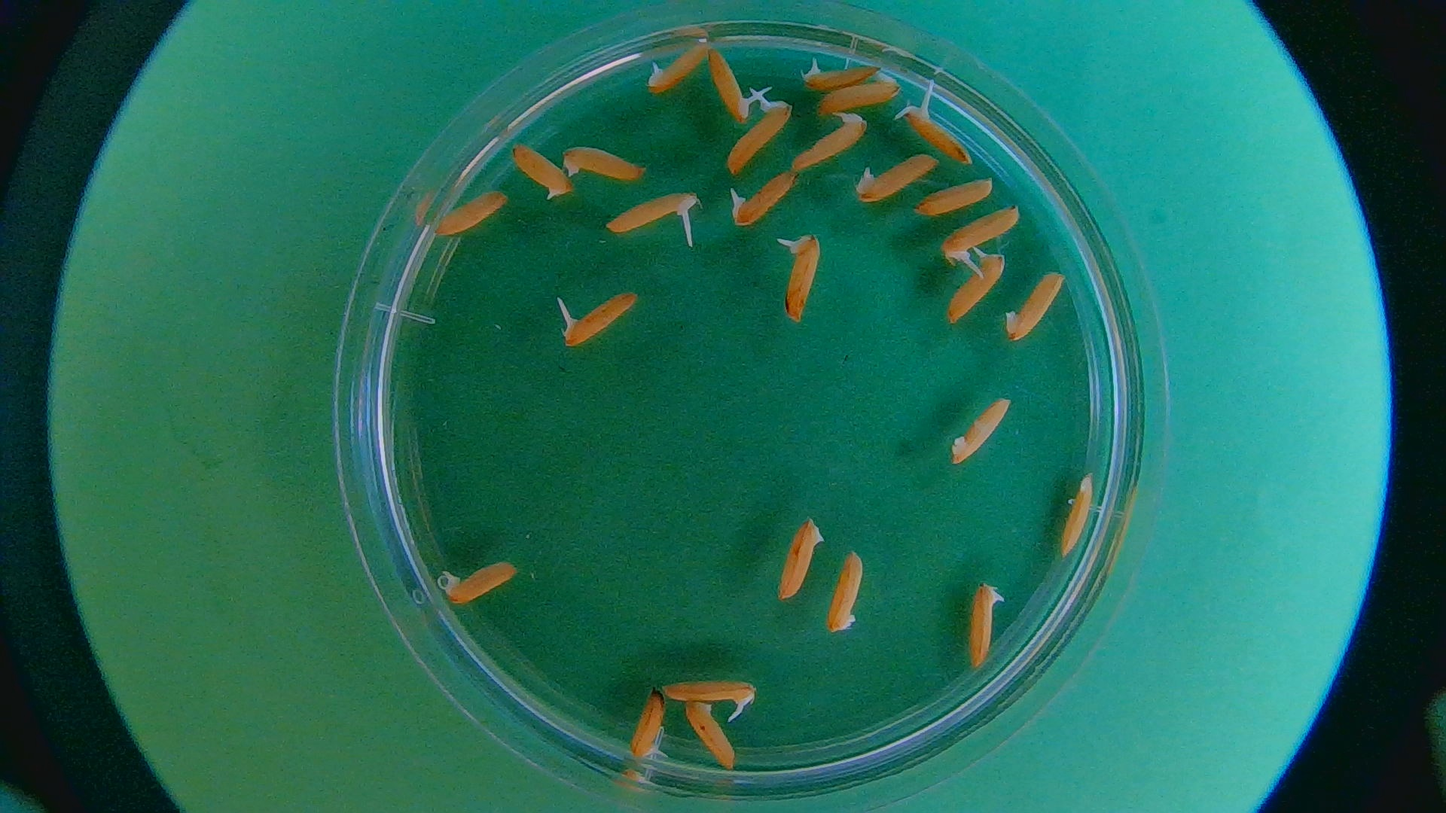no: (944, 388, 1012, 466), (1002, 263, 1065, 343), (676, 699, 739, 775), (854, 151, 941, 206), (777, 513, 825, 606), (560, 135, 647, 186), (431, 186, 511, 238), (963, 578, 1007, 671), (510, 140, 573, 202), (1054, 468, 1094, 561), (914, 177, 997, 221), (814, 78, 898, 115), (826, 548, 863, 632)
yes: (726, 95, 787, 176), (557, 289, 639, 349), (945, 251, 1006, 327), (786, 113, 864, 172), (894, 107, 970, 166), (606, 188, 697, 233), (942, 209, 1017, 262), (782, 229, 825, 320), (438, 562, 523, 608), (646, 39, 712, 98), (728, 169, 794, 227), (704, 47, 752, 125), (659, 678, 752, 711), (628, 688, 666, 764), (798, 58, 881, 92)
